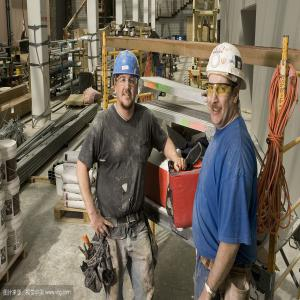blue: (114, 52, 142, 113)
white: (205, 42, 247, 130)
